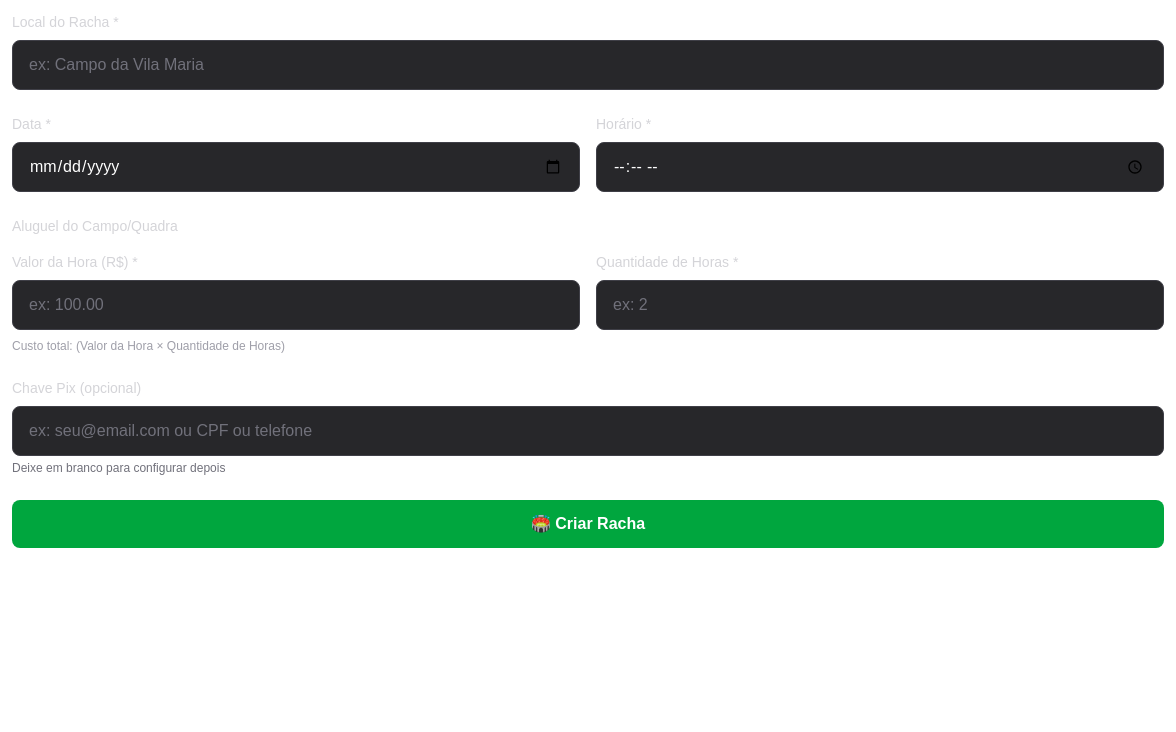
Test: CriarRachaForm › deve exibir erro se criarRacha retornar erro
Type "Campo" into the field labelled "Local do Racha *".
click(588, 65); type("Campo")  # box x1=12 y1=40 x2=1164 y2=90
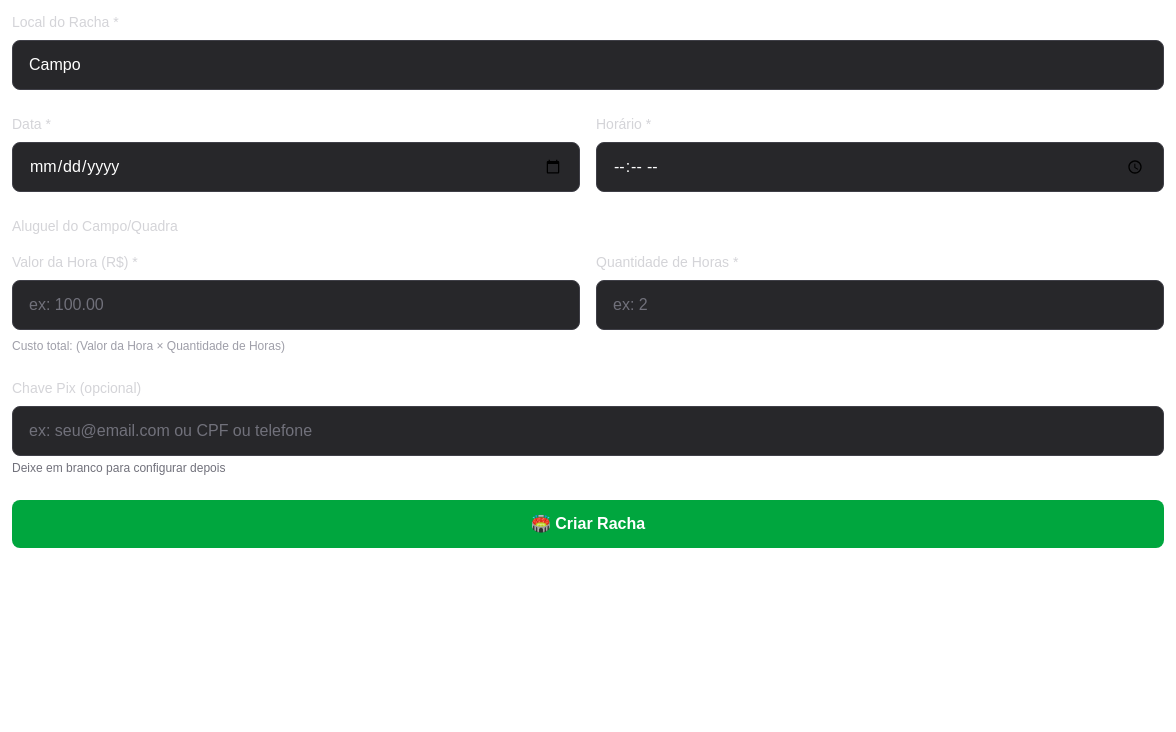
Type "2026-01-20" into the date field labelled "Data *".
click(296, 167); type("2026-01-20")  # box x1=12 y1=142 x2=580 y2=192
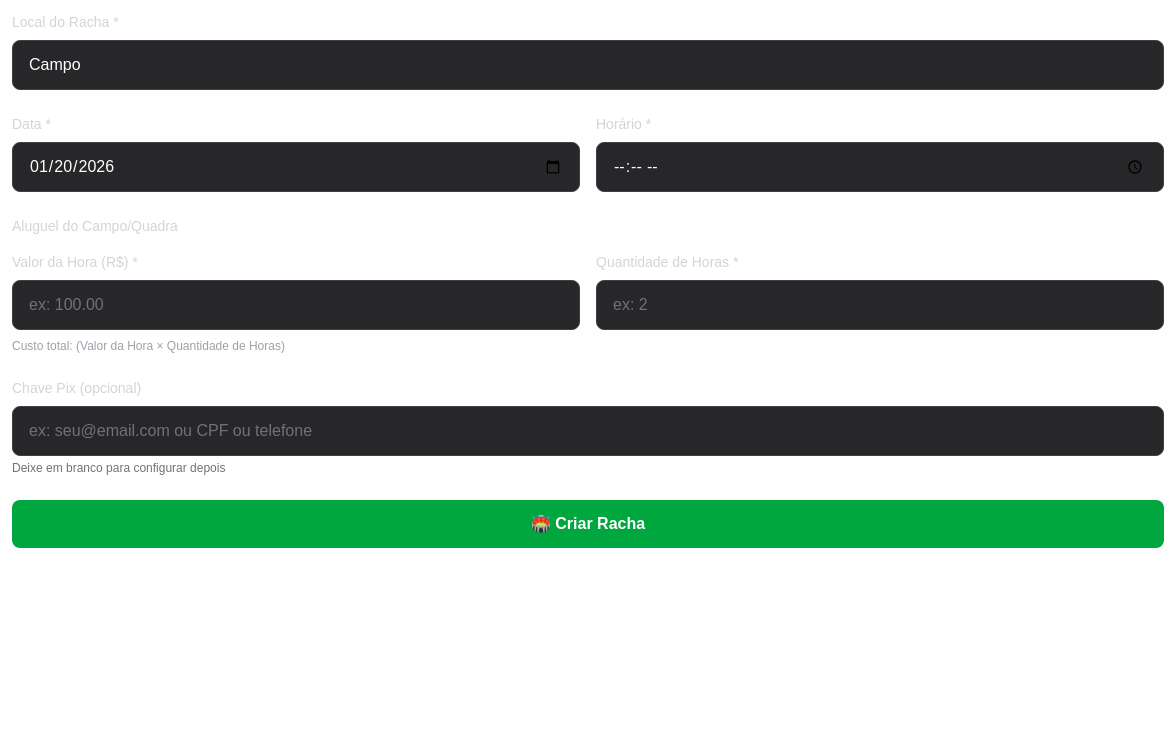
Type "20:00" into the time field labelled "Horário *".
click(880, 167); type("20:00")  # box x1=596 y1=142 x2=1164 y2=192
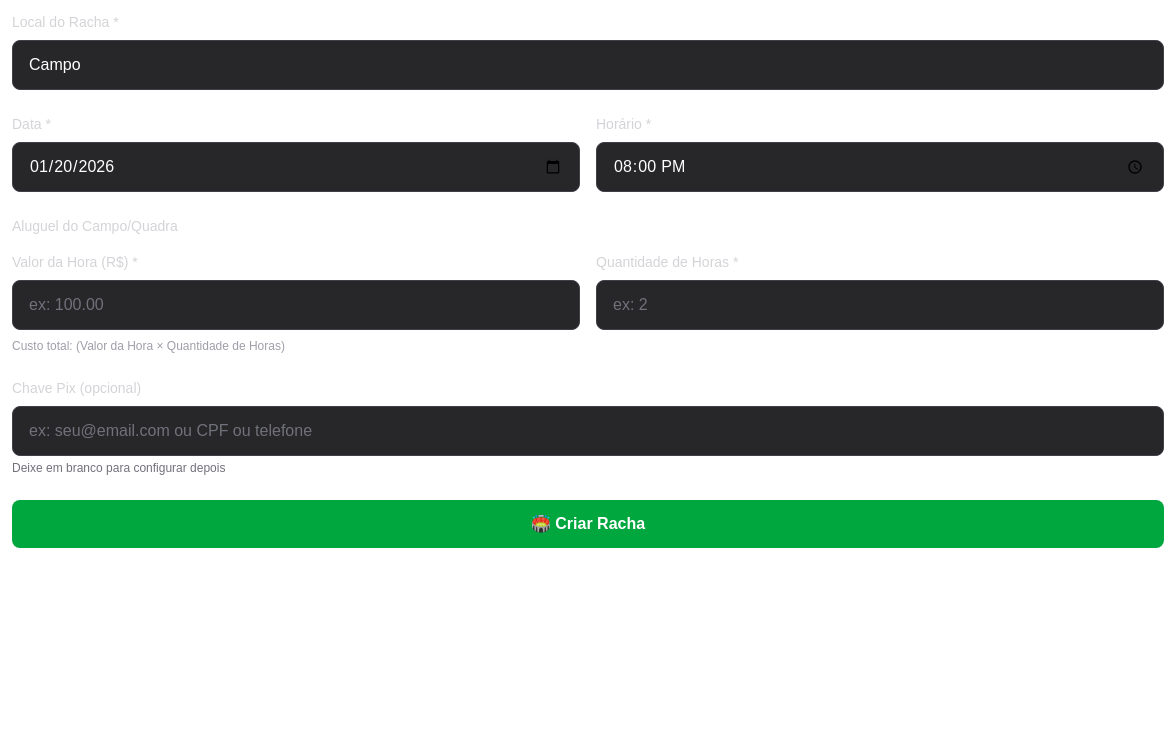
Type "100" into the number field labelled "Valor da Hora (R$) *".
click(296, 305); type("100")  # box x1=12 y1=280 x2=580 y2=330
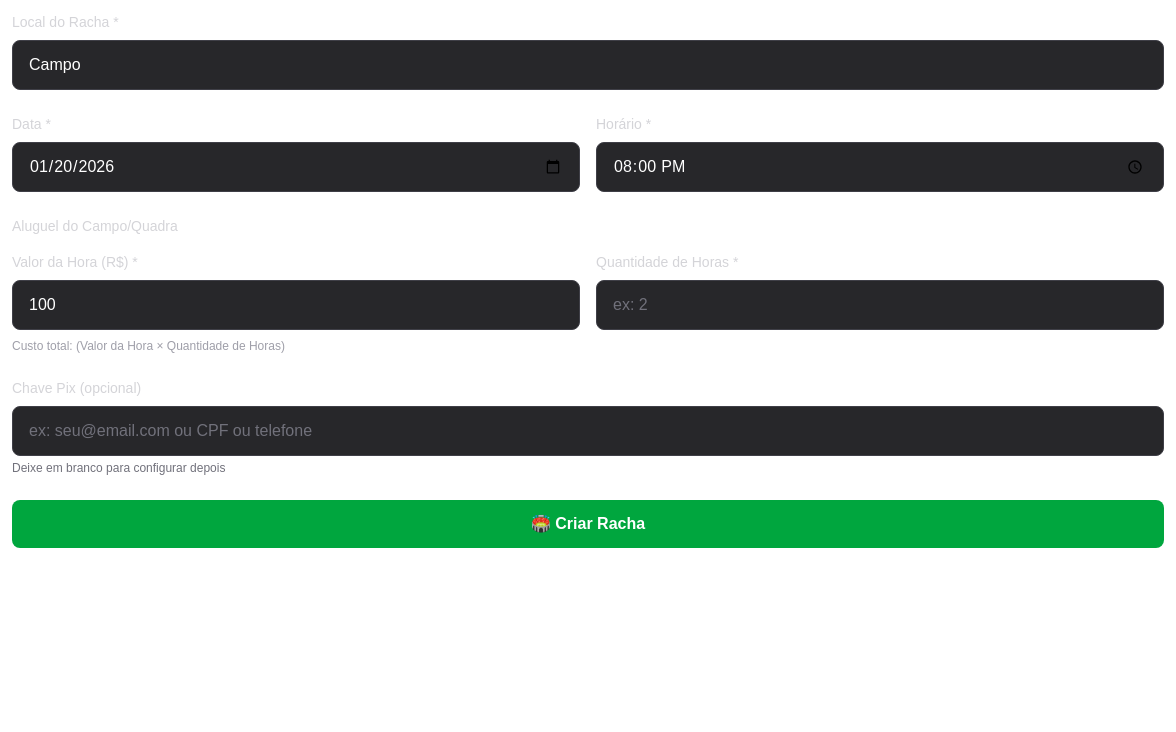
Type "2" into the number field labelled "Quantidade de Horas *".
click(880, 305); type("2")  # box x1=596 y1=280 x2=1164 y2=330
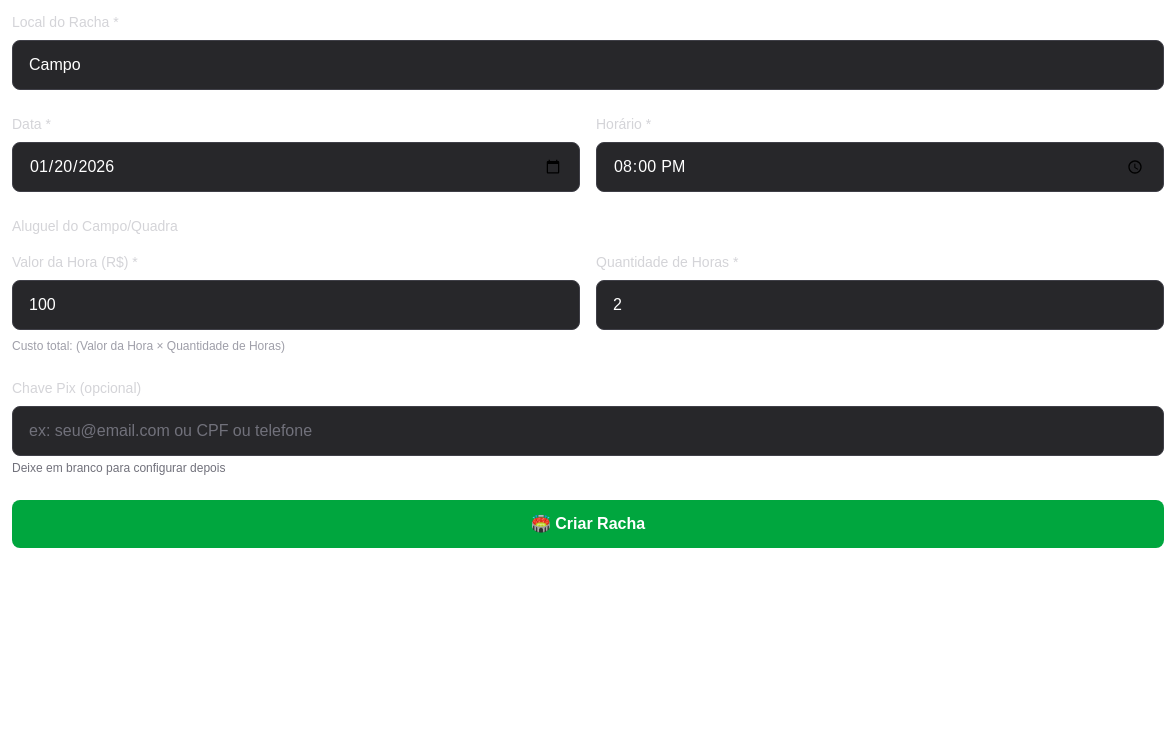
Click the button "🏟️ Criar Racha".
click(588, 524)  # box x1=12 y1=500 x2=1164 y2=548
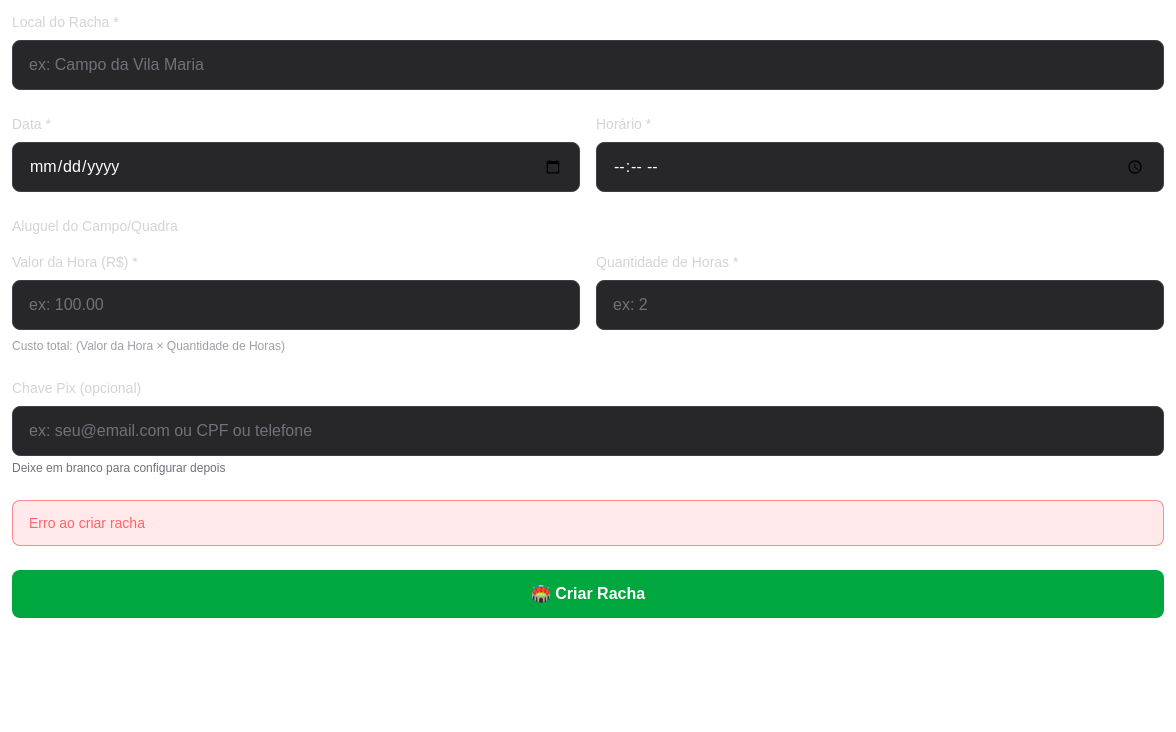
Expected: the text "Erro ao criar racha" is shown, x1=12 y1=500 x2=1164 y2=546
